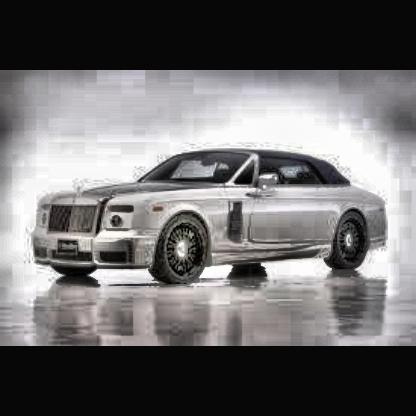Rolls-Royce Phantom Drophead Coupe Convertible 2012: (36, 151, 391, 288)
